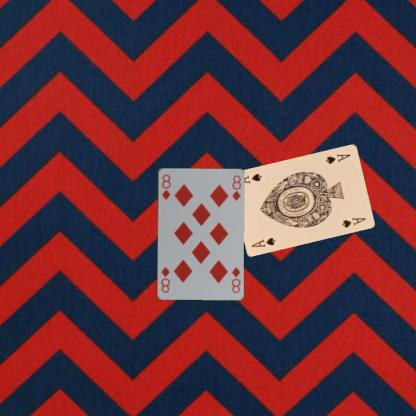8d: (159, 172, 171, 201), (229, 265, 241, 294)
As: (323, 151, 352, 165), (249, 234, 277, 248)
